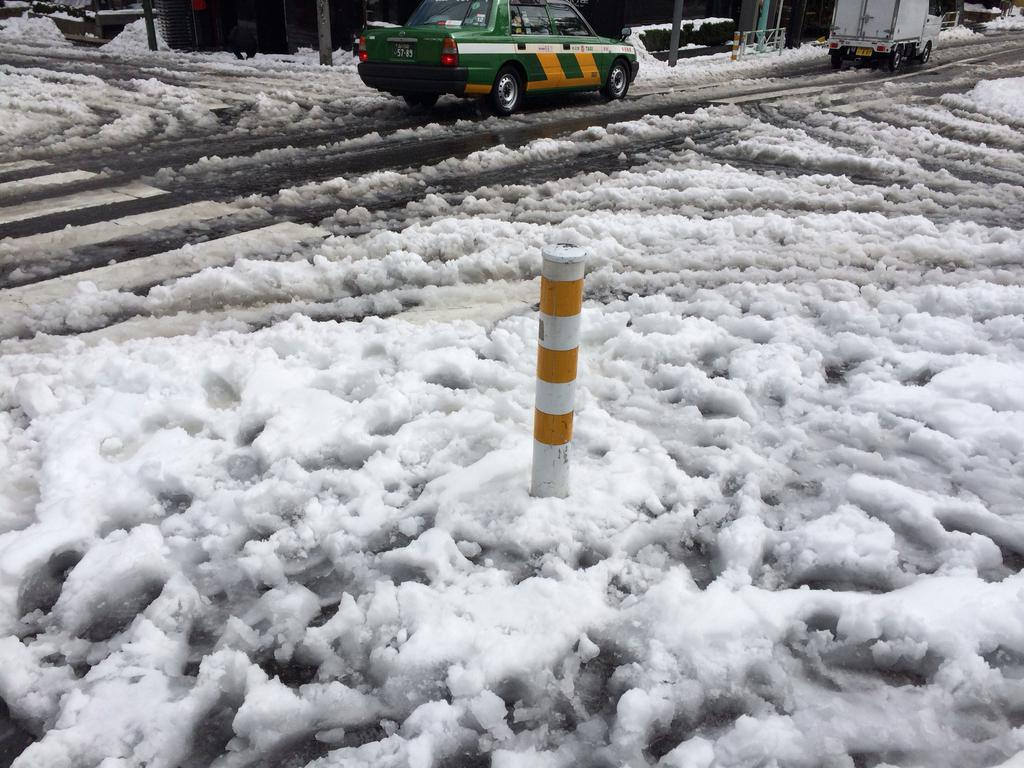taxi: (358, 1, 640, 119)
